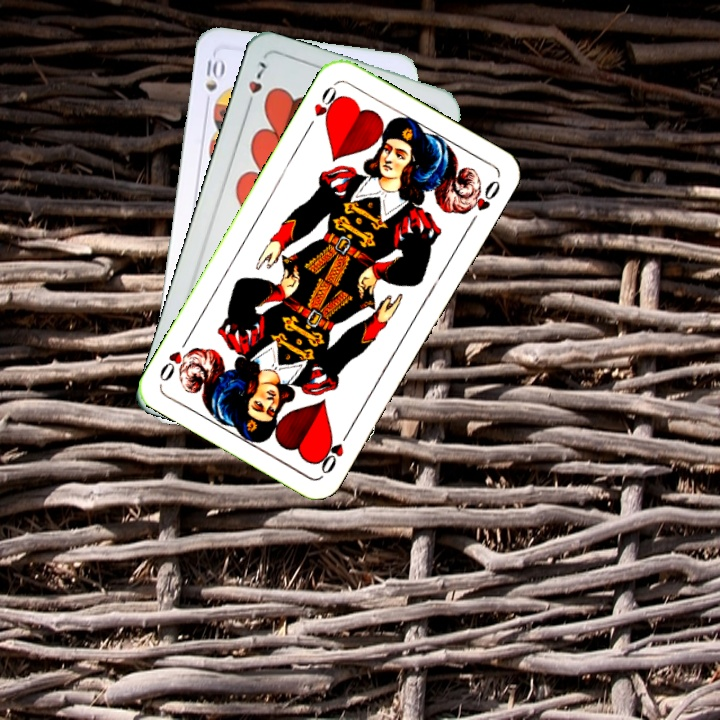H7: (242, 58, 271, 113)
HO: (302, 80, 344, 133), (315, 424, 354, 477)
S10: (201, 51, 225, 94)
